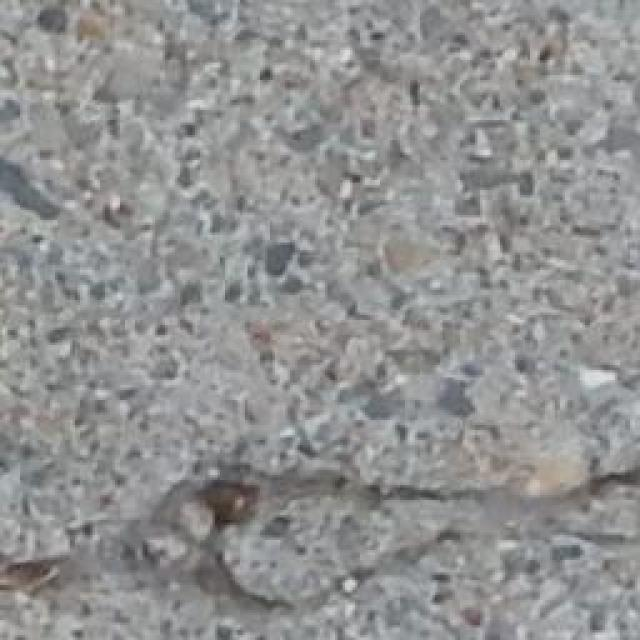concrete-crack: (0, 450, 640, 631)
